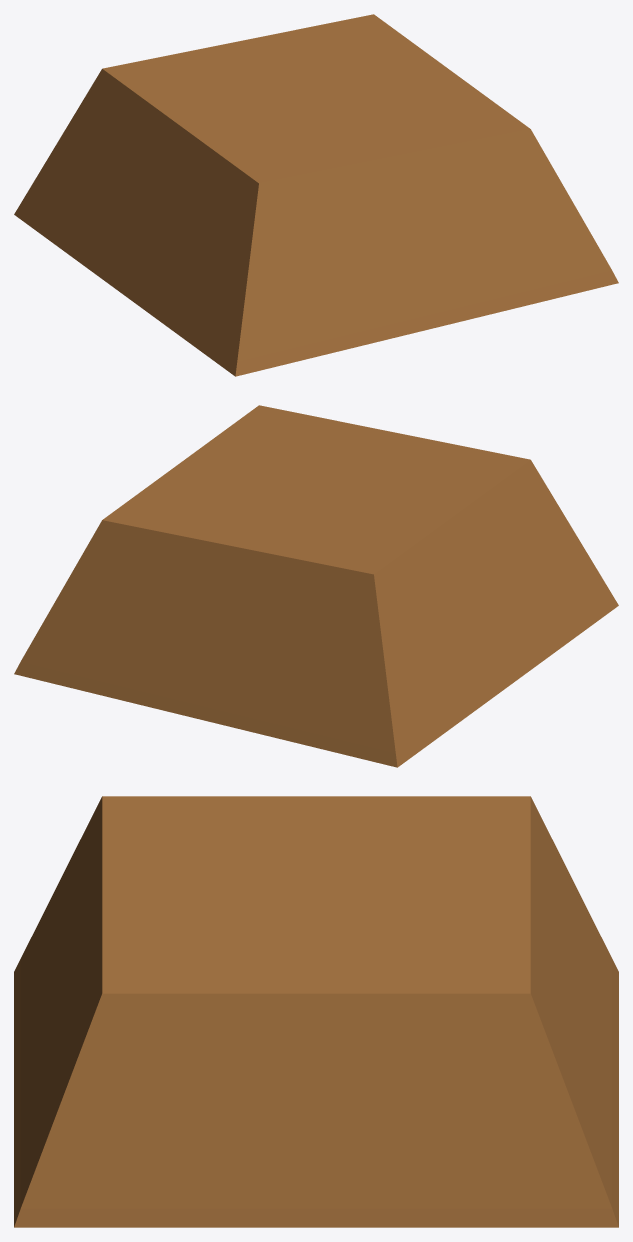
File: Pan_Superior.glb
The picture shows the model from 3 angles, top to bottom: view 1: azimuth 30°, elevation 25°; view 2: azimuth 150°, elevation 25°; view 3: azimuth 270°, elevation 25°; orthographic projection. The views are drawn at different scales.
Parts seen in each view (by area): view 1: Pan_superior; view 2: Pan_superior; view 3: Pan_superior.
Boxes of the visible parts, x1,y1,x2,y2 form: Pan_superior: (14,14,618,376); Pan_superior: (14,405,618,767); Pan_superior: (14,796,618,1227).
Size of the model in its own units: 1.99 by 0.7735 by 1.99.
